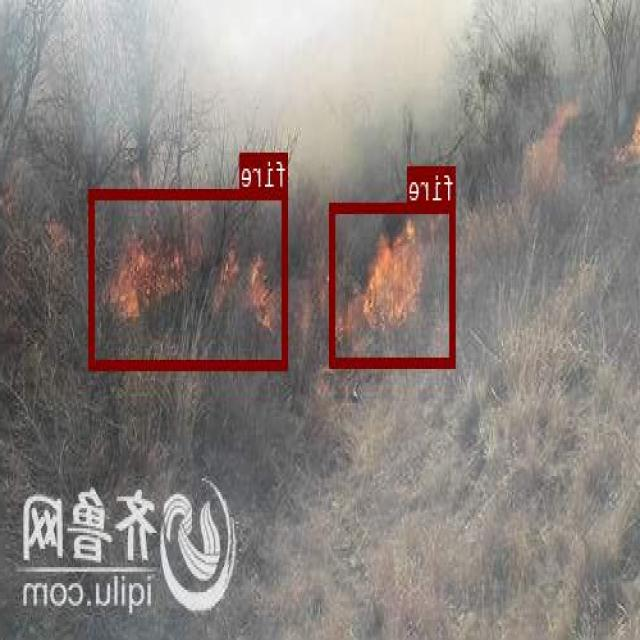fire: (90, 189, 288, 368), (331, 201, 456, 365)
